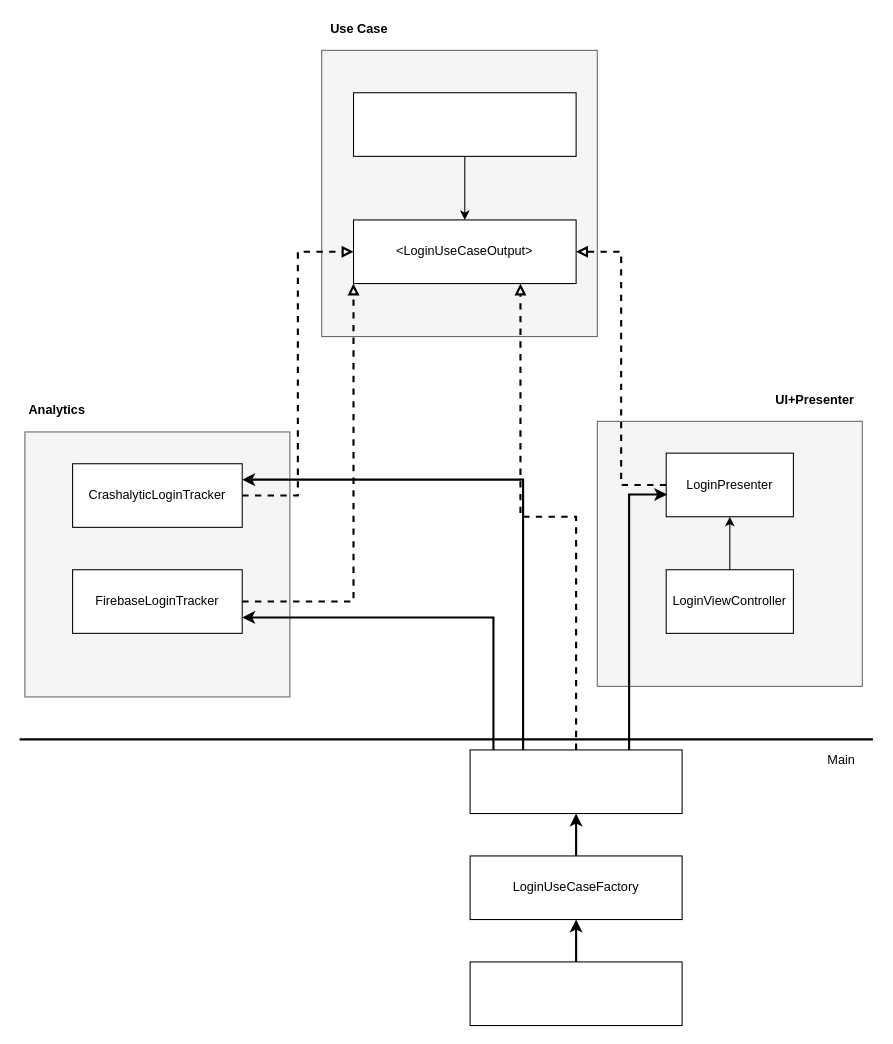
This 893x1044 diagram has some shape labels left out. Here are the shapes that lost their labels. From the top down, the centre of each, then its label:
pixel 464 124: LoginUseCase - login(name, password)
pixel 575 781: LoginUseCaseOutputComposer
pixel 575 993: App
